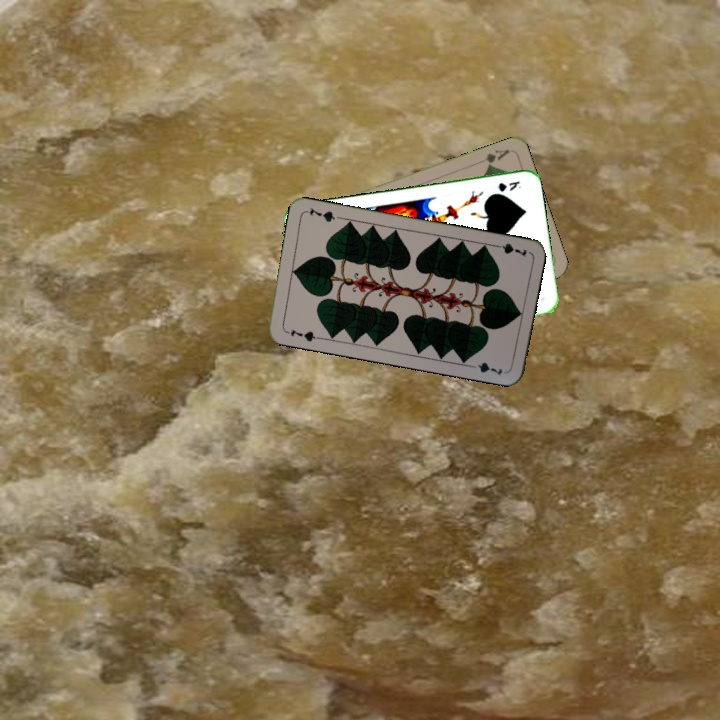G7: (489, 239, 529, 259), (282, 325, 322, 344)
GA: (481, 145, 512, 169)
GK: (493, 177, 523, 194)
